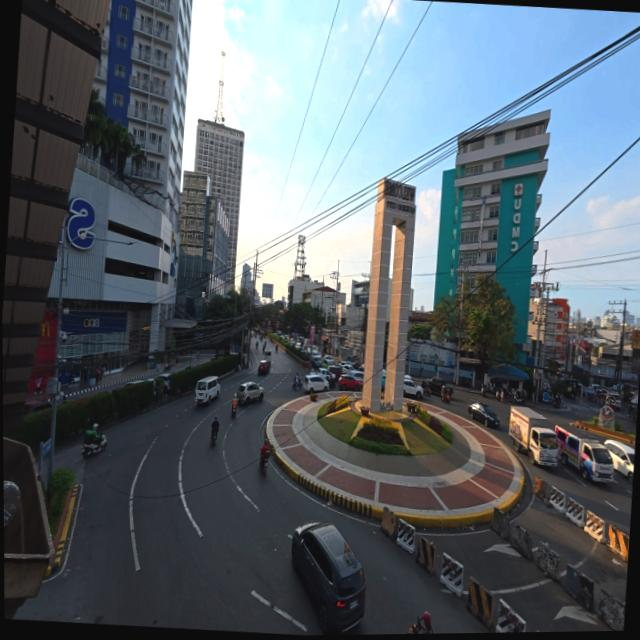car: (283, 518, 371, 636), (466, 401, 501, 431), (235, 380, 264, 404), (297, 369, 327, 391), (401, 376, 426, 400)
trucks: (506, 408, 565, 470)
